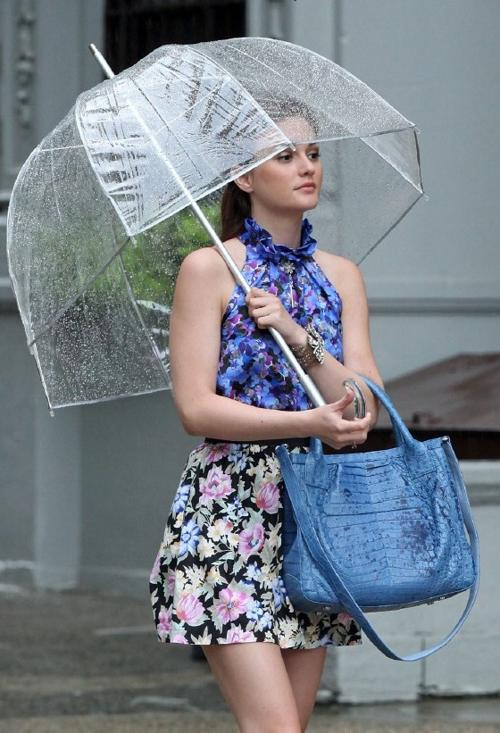person: (150, 102, 387, 733)
